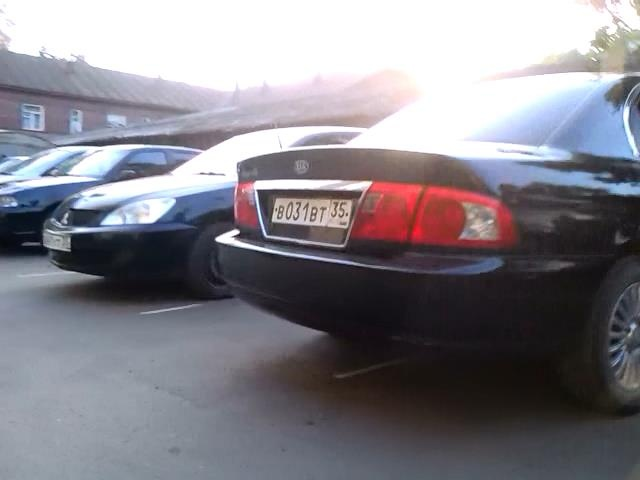car license plate: (270, 196, 351, 234), (41, 229, 72, 255)
